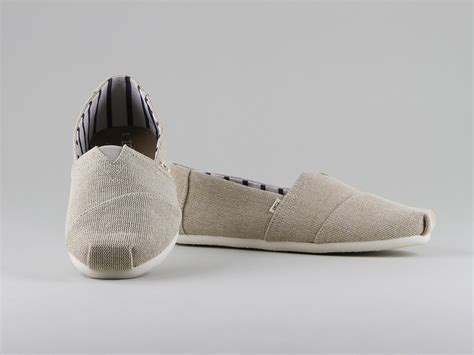nylon: (65, 75, 435, 273)
